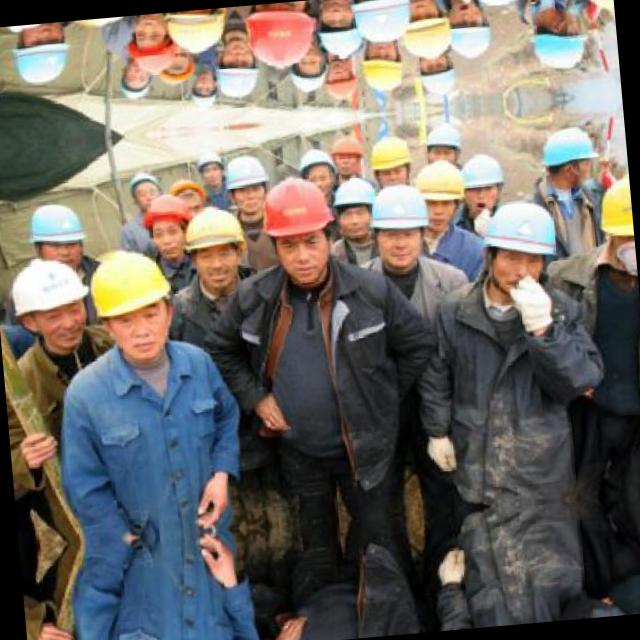helmet: (78, 246, 176, 356), (6, 246, 98, 354), (474, 190, 560, 292), (252, 178, 326, 282), (177, 203, 250, 292), (366, 180, 433, 266), (23, 195, 89, 272), (236, 0, 308, 66), (7, 21, 74, 89), (536, 120, 597, 190), (414, 154, 470, 230), (526, 4, 587, 73), (136, 190, 194, 260), (222, 148, 274, 221), (212, 28, 264, 101), (330, 168, 380, 240), (594, 172, 634, 262), (120, 12, 178, 74), (399, 0, 456, 62), (458, 146, 508, 216), (160, 8, 232, 54), (314, 0, 365, 63), (444, 0, 494, 62), (349, 0, 414, 44), (356, 36, 406, 92), (365, 132, 414, 188), (411, 44, 460, 97), (418, 118, 467, 170), (286, 44, 328, 94), (294, 143, 336, 192), (328, 129, 368, 179), (322, 52, 362, 102), (113, 58, 155, 102), (122, 166, 164, 209), (184, 62, 217, 110), (192, 145, 224, 193), (454, 0, 536, 14), (575, 0, 612, 14)
